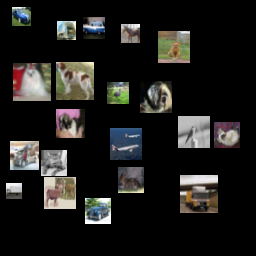airplane: (110, 128, 142, 160)
automobile: (10, 141, 39, 170), (85, 198, 111, 224), (83, 17, 105, 39), (12, 7, 31, 26)
bird: (178, 116, 210, 148), (107, 82, 129, 104)
cat: (158, 31, 190, 63), (214, 122, 240, 148), (41, 150, 67, 176)
deer: (44, 177, 76, 209), (118, 167, 144, 193)
dog: (56, 62, 94, 100), (13, 63, 51, 101), (140, 81, 172, 113), (56, 109, 85, 138)
